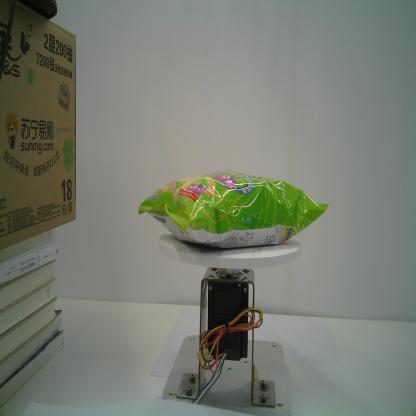Puffed Food: (138, 170, 329, 248)
